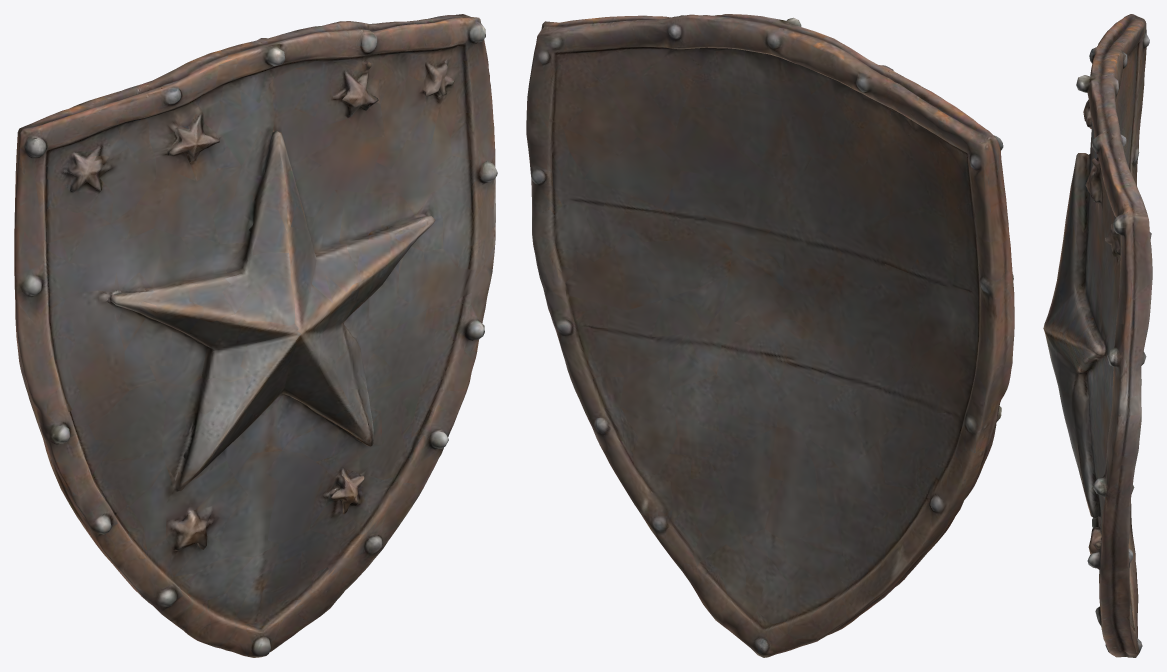
The model's file is PF_Shield10.glb.
The picture shows the model from 3 angles, left to right: view 1: azimuth 30°, elevation 25°; view 2: azimuth 150°, elevation 25°; view 3: azimuth 270°, elevation 25°; orthographic projection. The views are drawn at different scales.
Bounding box in the file's own units: 1.62 × 2 × 0.3412.
Materials: 1 (1 with a texture image).
